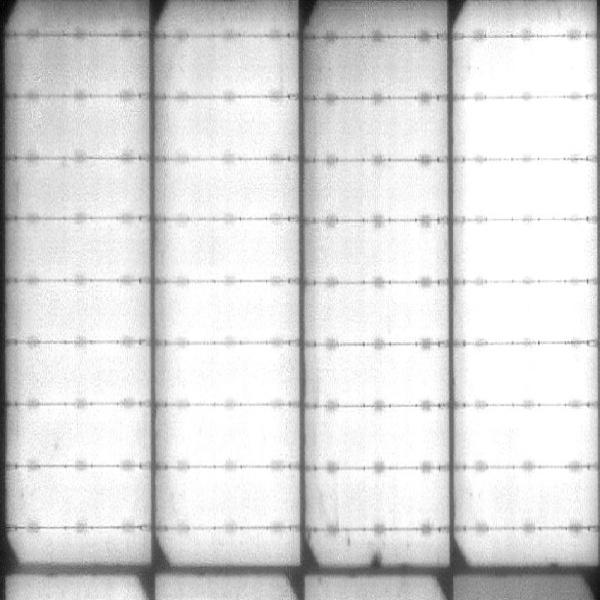hot_spot: (470, 225, 595, 278), (471, 290, 587, 339), (471, 412, 585, 460), (477, 166, 584, 216), (473, 351, 583, 397), (477, 106, 580, 155), (482, 476, 585, 522), (486, 48, 587, 92), (333, 421, 440, 459), (185, 356, 282, 397), (189, 421, 278, 456), (340, 363, 434, 396), (350, 482, 435, 517), (202, 482, 278, 514)
